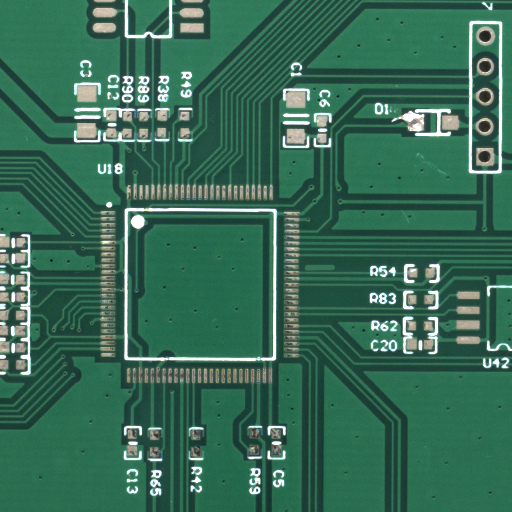Spurious_copper: (320, 267, 352, 274)
